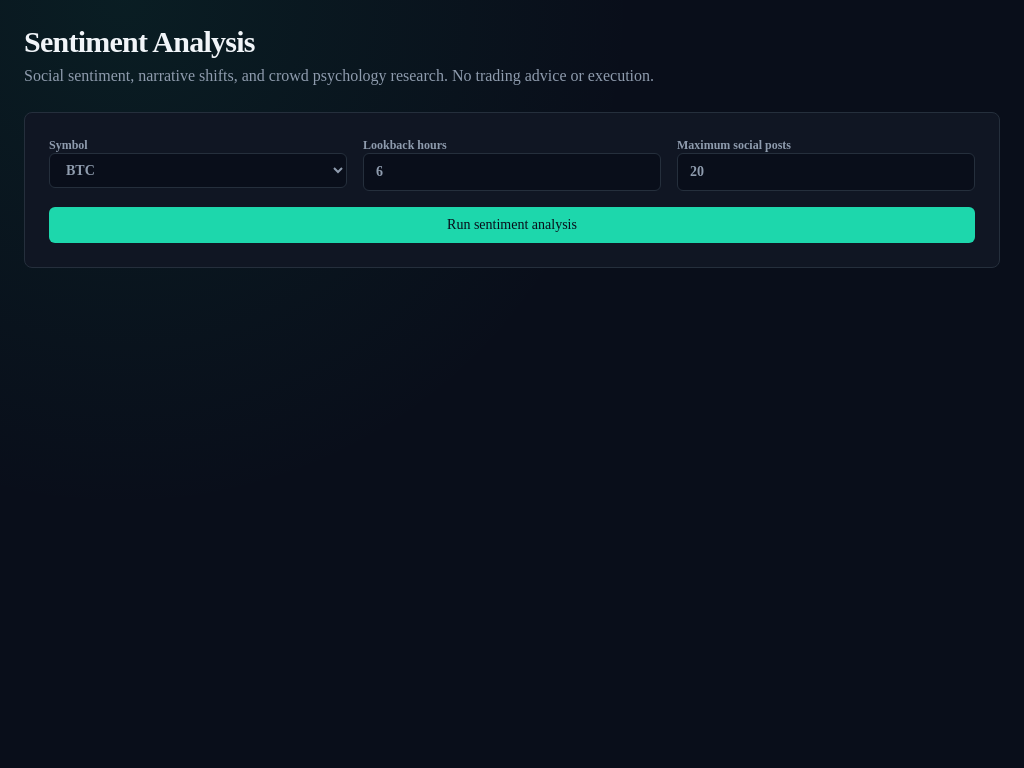
Test: News and sentiment analysis pages › runs and displays crowd behavior
This screenshot has width=1024, height=768.
Click the button "Run sentiment analysis" at (512, 225), box [49,207,975,243]
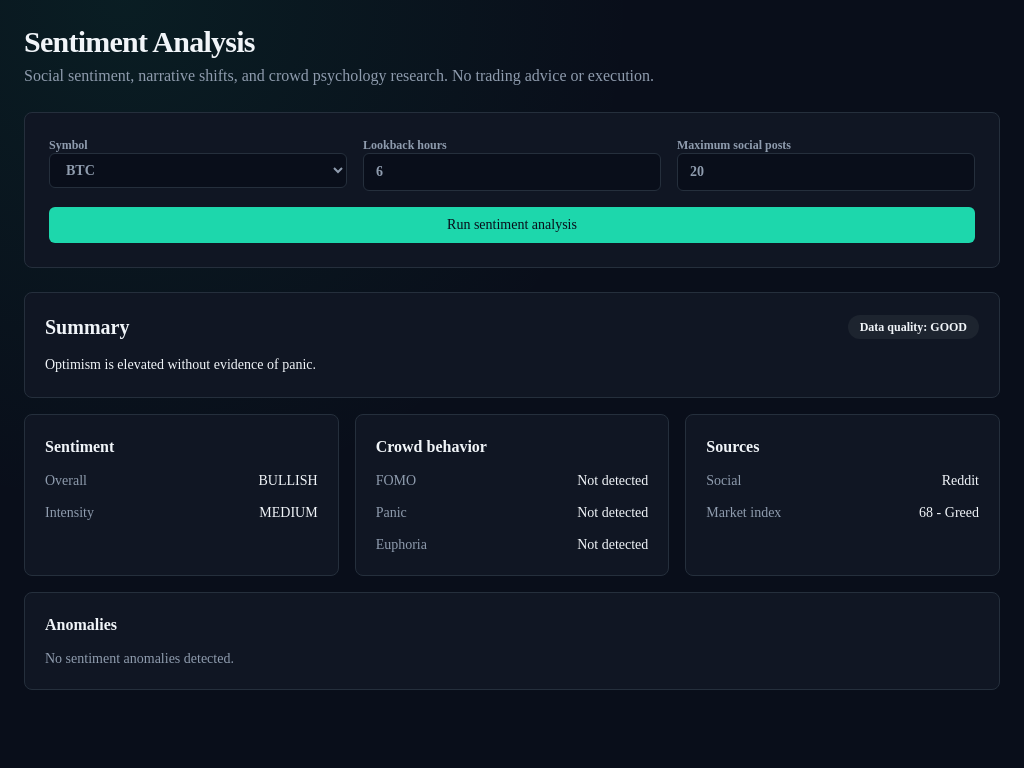
Result: the text "Optimism is elevated without evidence of panic." is shown at [45,357,316,372]
Result: the heading "Crowd behavior" is shown at [376,438,487,455]
